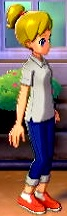woman_no_egg: (5, 4, 63, 215)
